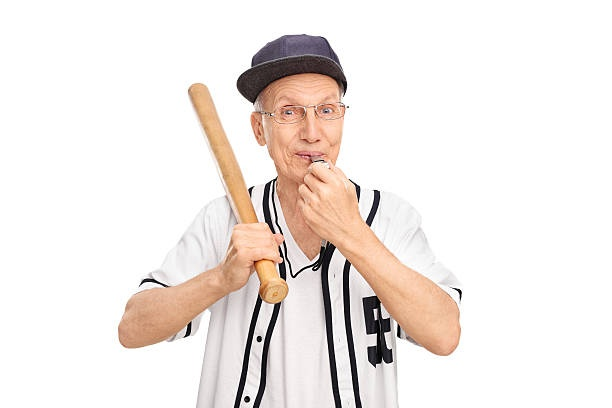bita: (188, 80, 285, 305)
